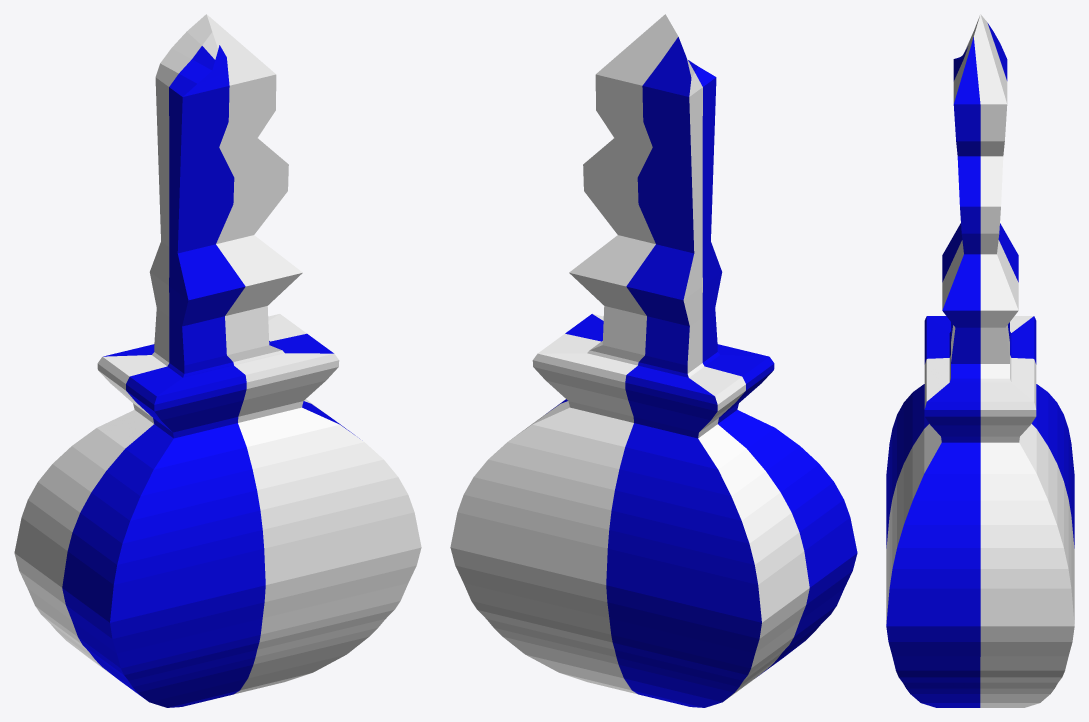
File: key.fbx
3 renders of one model, left to right at view 1: azimuth 30°, elevation 25°; view 2: azimuth 150°, elevation 25°; view 3: azimuth 270°, elevation 25°, orthographic.
Visible parts, largest first — view 1: Cube; view 2: Cube; view 3: Cube.
Part boxes in pixels (x1,y1,x2,y2): Cube: [14, 14, 421, 707]; Cube: [450, 14, 857, 707]; Cube: [886, 14, 1074, 707].
Bounding box in the file's own units: 210 × 439 × 112.
